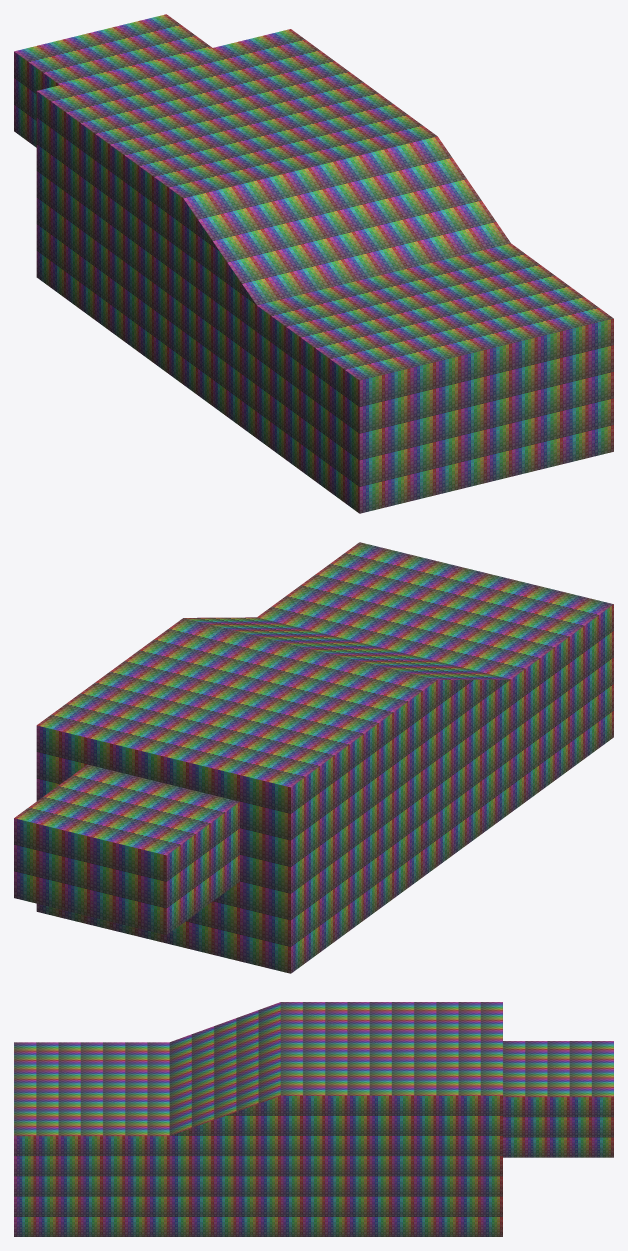
The model's file is Obstacle course.glb.
3 views of the same model, one above another, from view 1: azimuth 30°, elevation 25°; view 2: azimuth 150°, elevation 25°; view 3: azimuth 270°, elevation 25° (orthographic). The views are drawn at different scales.
Parts seen in each view (by area): view 1: Level mesh; view 2: Level mesh; view 3: Level mesh.
Part boxes in pixels (left/top/right/bottom): Level mesh: left=14, top=14, right=613, bottom=513; Level mesh: left=14, top=542, right=613, bottom=973; Level mesh: left=14, top=1002, right=613, bottom=1236.
Size of what is drawn, in the model's own units: 10 by 7 by 27.
1 material, 1 textured.
